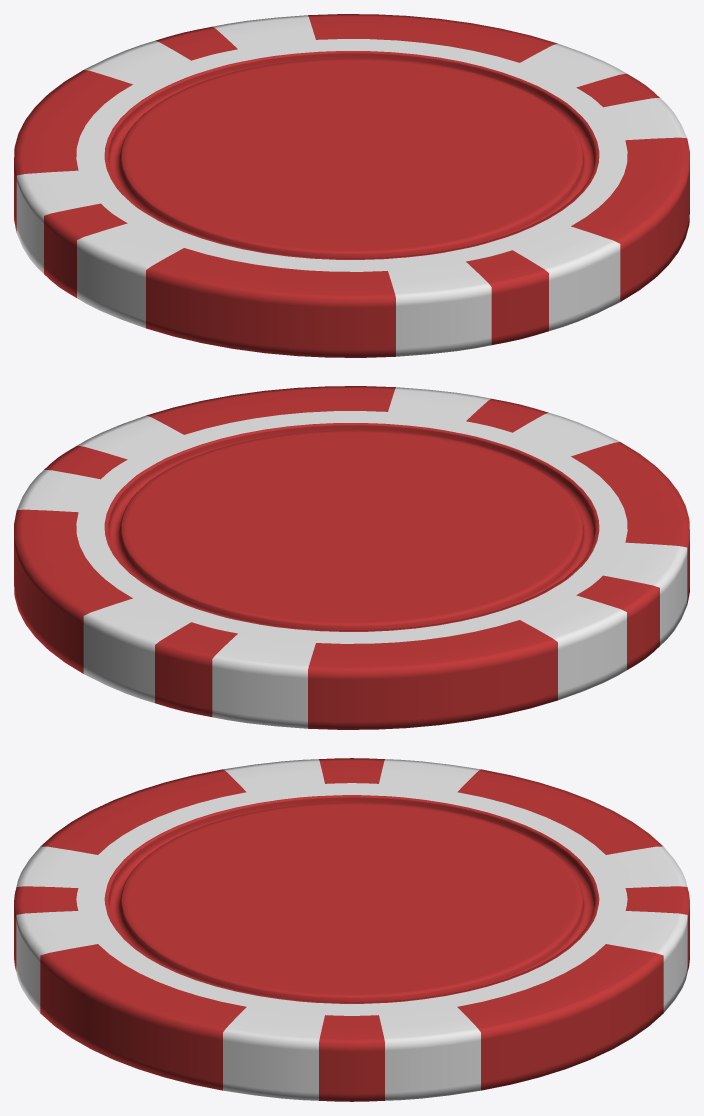
File: Chip_Red.glb
3 renders of one model, top to bottom at view 1: azimuth 30°, elevation 25°; view 2: azimuth 150°, elevation 25°; view 3: azimuth 270°, elevation 25°, orthographic.
Parts seen in each view (by area): view 1: Chip; view 2: Chip; view 3: Chip.
Boxes of the visible parts, left/top/right/bottom form: Chip: left=14, top=14, right=689, bottom=357; Chip: left=14, top=386, right=689, bottom=729; Chip: left=14, top=758, right=689, bottom=1101.
Bounding box in the file's own units: 2 × 0.1988 × 2.
